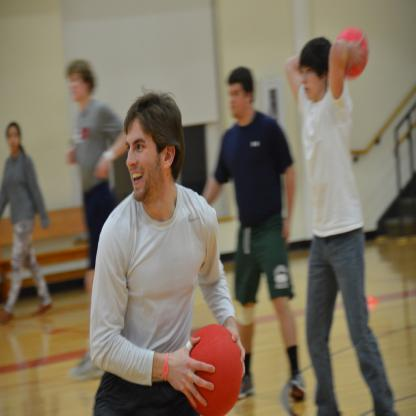Ball: (190, 324, 243, 416), (338, 28, 369, 76)
